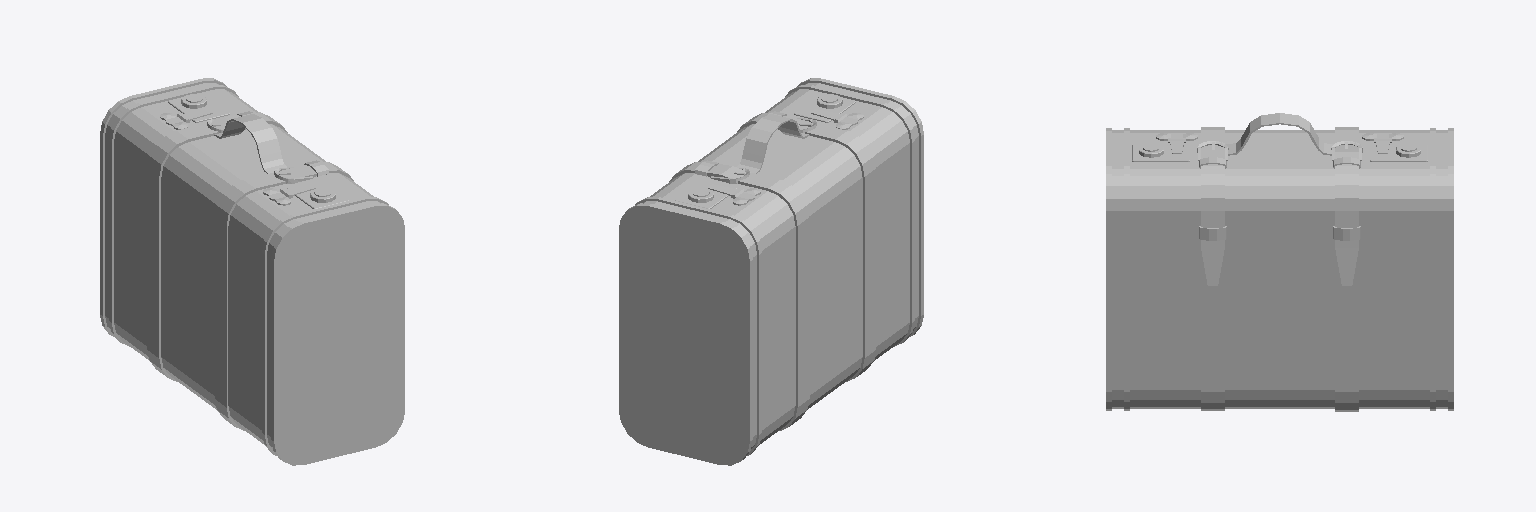
File: SM_OldLuggage_01.obj
The picture shows the model from 3 angles: view 1: azimuth 30°, elevation 25°; view 2: azimuth 150°, elevation 25°; view 3: azimuth 270°, elevation 25°; orthographic projection.
Parts seen in each view (by area): view 1: SM_OldLuggage_01; view 2: SM_OldLuggage_01; view 3: SM_OldLuggage_01.
Boxes of the visible parts, x1,y1,x2,y2 form: SM_OldLuggage_01: [100, 78, 404, 465]; SM_OldLuggage_01: [619, 78, 923, 465]; SM_OldLuggage_01: [1106, 113, 1453, 411].
Bounding box in the file's own units: 27.88 × 52.53 × 60.81.